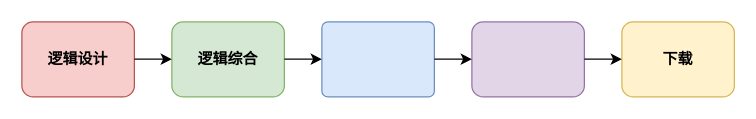
The diagram is 756 pixels wide and 119 high, and some of its shapes have lost their labels. Here are the shapes that lost their labels. From the top down, the centre of each, then its label:
At point 377,59: "布局布线".
At point 527,59: "生成比特流".
